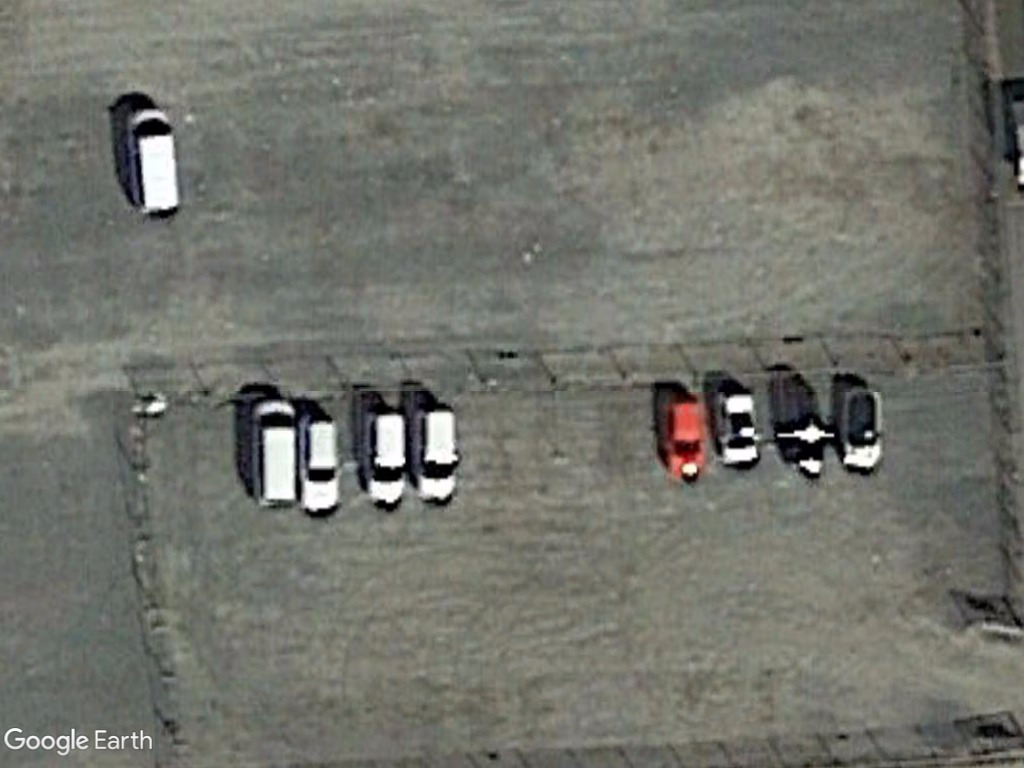van: (124, 103, 184, 223), (249, 396, 302, 513), (358, 403, 410, 513), (409, 402, 459, 508), (294, 410, 342, 518), (659, 390, 708, 484)
